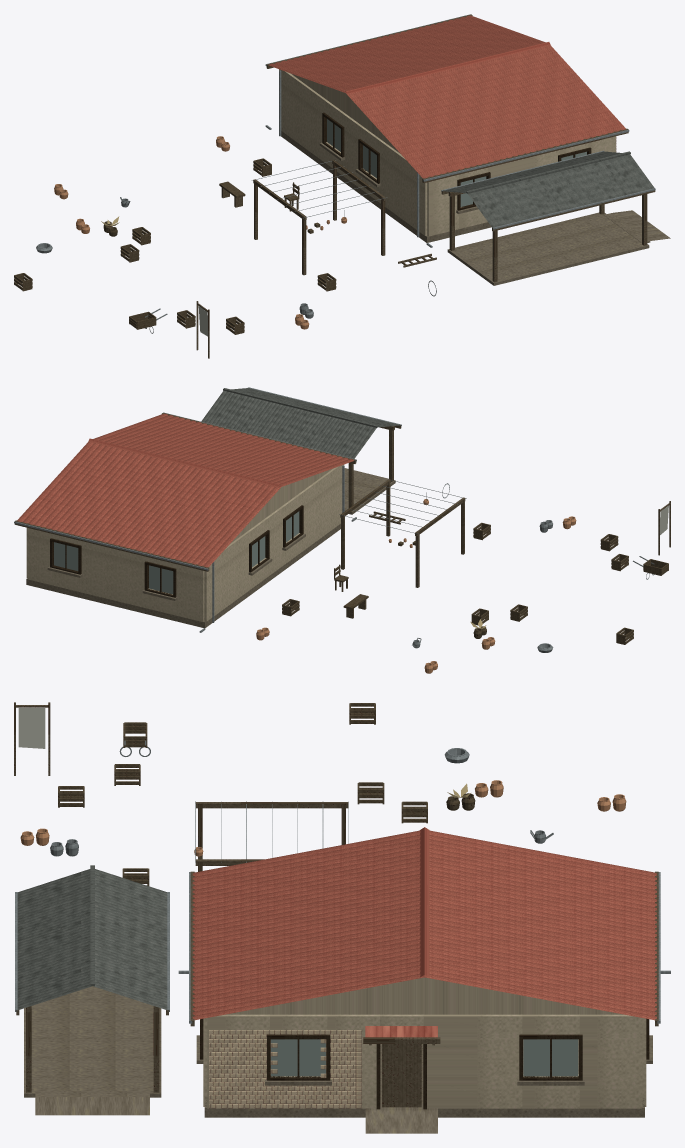
The picture shows the model from 3 angles, top to bottom: view 1: azimuth 30°, elevation 25°; view 2: azimuth 150°, elevation 25°; view 3: azimuth 270°, elevation 25°; orthographic projection. The views are drawn at different scales.
Visible parts, largest first — view 1: H17_TELHAS, H17_GARAGEM_COBERTURA, H17_FUNDOS, H17_GARAGEM_BASE, H17_LATERAIS, H17_FUNDACAO, H17_CAIXILHOS, H17_OITOES, H17_BEIRAIS, H17_PERGOLA_POSTES, H17_GARAGEM_PILARES, H17_VIDROS_RECUADOS (+7 smaller); view 2: H17_TELHAS, H17_LATERAIS, H17_FUNDOS, H17_GARAGEM_COBERTURA, H17_FUNDACAO, H17_VIDROS_RECUADOS, H17_CAIXILHOS, H17_OITOES, H17_GARAGEM_BASE, H17_BEIRAIS, H17_PERGOLA_POSTES, H17_CUMEEIRA (+6 smaller); view 3: H17_TELHAS, H17_FACHADA, H17_GARAGEM_COBERTURA, H17_GARAGEM_BASE, H17_TIJOLOS_APARENTES, H17_OITOES, H17_FUNDACAO, H17_VIDROS_RECUADOS, H17_PORTA_FOLHA, H17_CAIXILHOS, H17_GARAGEM_RAMPA, H17_RAMPA (+11 smaller).
Boxes of the visible parts, x1,y1,x2,y2 form: H17_TELHAS: (269,15,625,178); H17_GARAGEM_COBERTURA: (442,151,654,227); H17_FUNDOS: (279,69,427,235); H17_GARAGEM_BASE: (447,212,649,285); H17_LATERAIS: (427,136,614,236); H17_FUNDACAO: (281,131,491,242); H17_CAIXILHOS: (322,112,591,210); H17_OITOES: (292,74,400,153); H17_BEIRAIS: (266,14,628,182); H17_PERGOLA_POSTES: (254,162,385,275); H17_GARAGEM_PILARES: (449,192,647,282); H17_VIDROS_RECUADOS: (327,119,586,206); H17_TELHAS: (17,413,353,567); H17_LATERAIS: (27,528,204,621); H17_FUNDOS: (204,464,344,621); H17_GARAGEM_COBERTURA: (201,388,400,458); H17_FUNDACAO: (26,524,340,628); H17_VIDROS_RECUADOS: (54,511,299,594); H17_CAIXILHOS: (50,505,303,597); H17_OITOES: (230,468,332,543); H17_GARAGEM_BASE: (344,468,395,514); H17_BEIRAIS: (14,413,356,571); H17_PERGOLA_POSTES: (341,481,464,587); H17_CUMEEIRA: (88,438,282,488); H17_TELHAS: (192,830,656,1020); H17_FACHADA: (207,1014,642,1108); H17_GARAGEM_COBERTURA: (17,869,167,1010); H17_GARAGEM_BASE: (24,986,161,1097); H17_TIJOLOS_APARENTES: (209,1030,361,1108); H17_OITOES: (226,977,623,1014); H17_FUNDACAO: (204,1039,644,1117); H17_VIDROS_RECUADOS: (271,1039,578,1076); H17_PORTA_FOLHA: (382,1044,421,1107); H17_CAIXILHOS: (200,1018,649,1080); H17_GARAGEM_RAMPA: (35,1097,149,1115); H17_RAMPA: (365,1110,437,1133).
Bounding box in the file's own units: 25.58 × 4.28 × 17.21.
14 materials, 10 textured.
